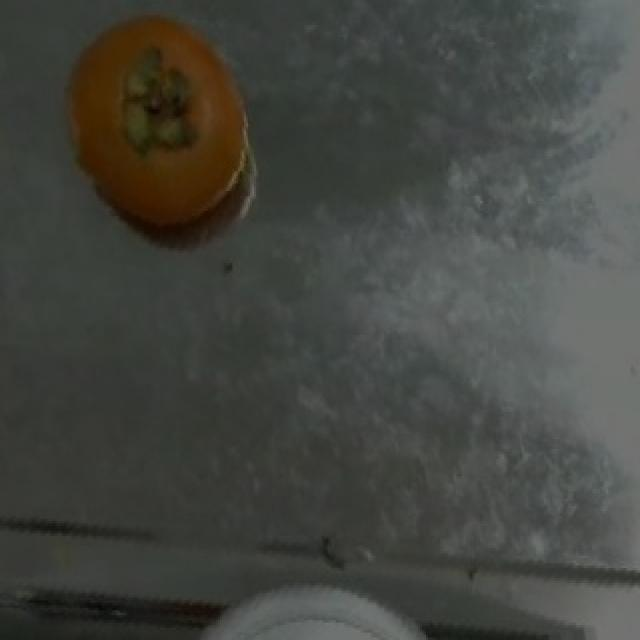Fruit: (40, 12, 282, 256)
